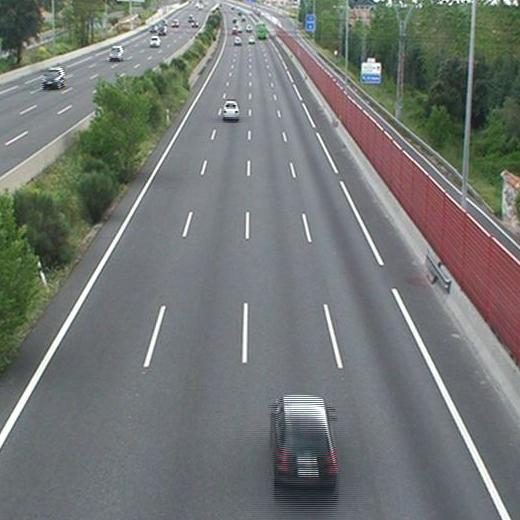bus: (256, 20, 265, 39)
car: (272, 395, 337, 482), (222, 100, 240, 119)
